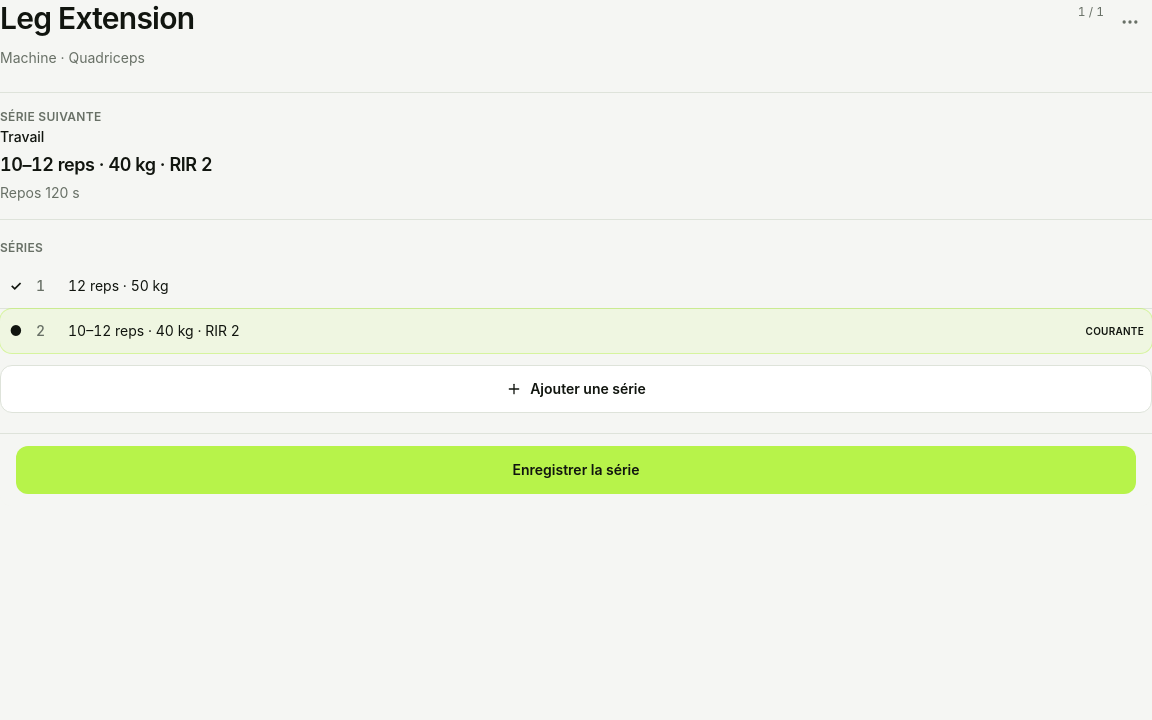
Test: Copier la série précédente (ActiveExercisePanel) › copie la série précédente d’un exercice ajouté à la volée
The image size is (1152, 720).
Click the button with aria-label "Série 2,": [154, 330] box [0, 309, 1151, 353]
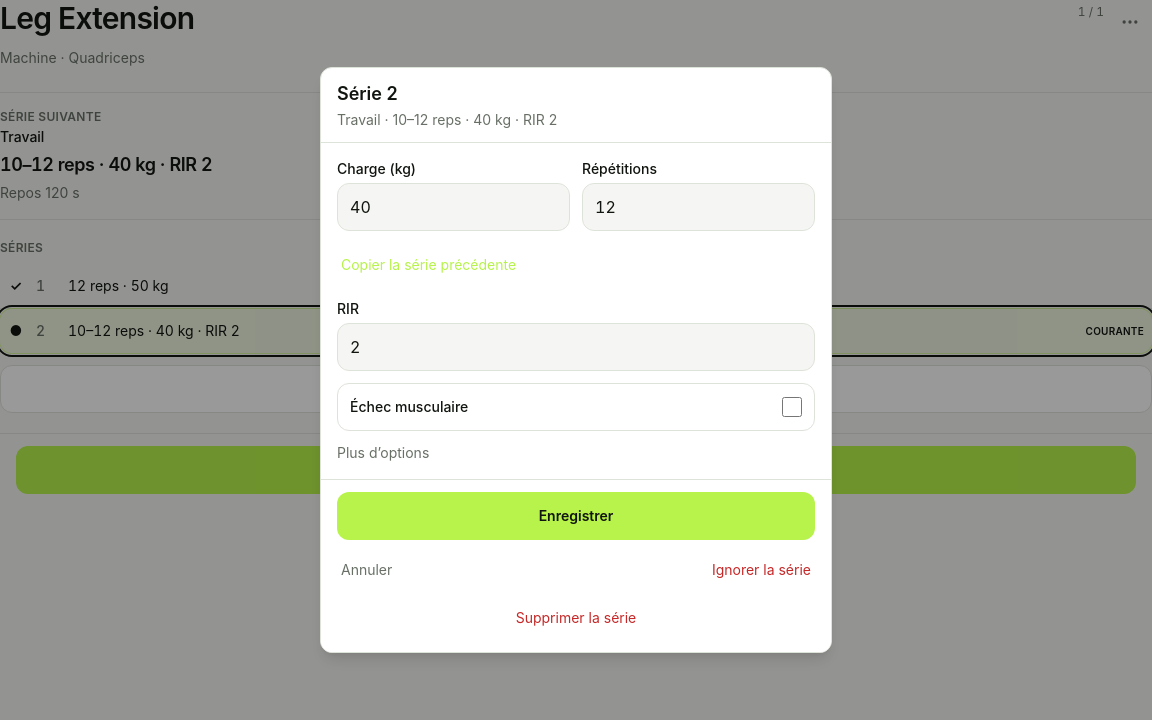
Click the button "Copier la série précédente": [429, 265] box [337, 243, 520, 287]
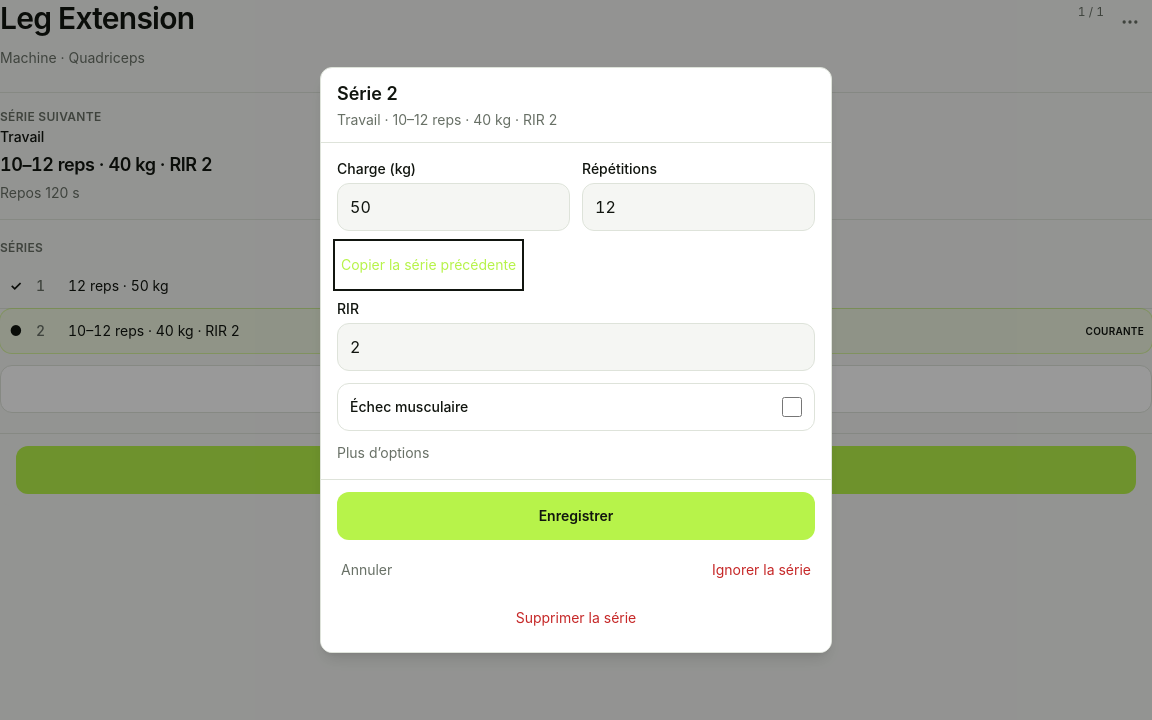
Expected: the number field labelled "Répétitions" holds "12", [582, 183, 815, 231]
Expected: the number field labelled "Charge (kg)" holds "50", [337, 183, 570, 231]
